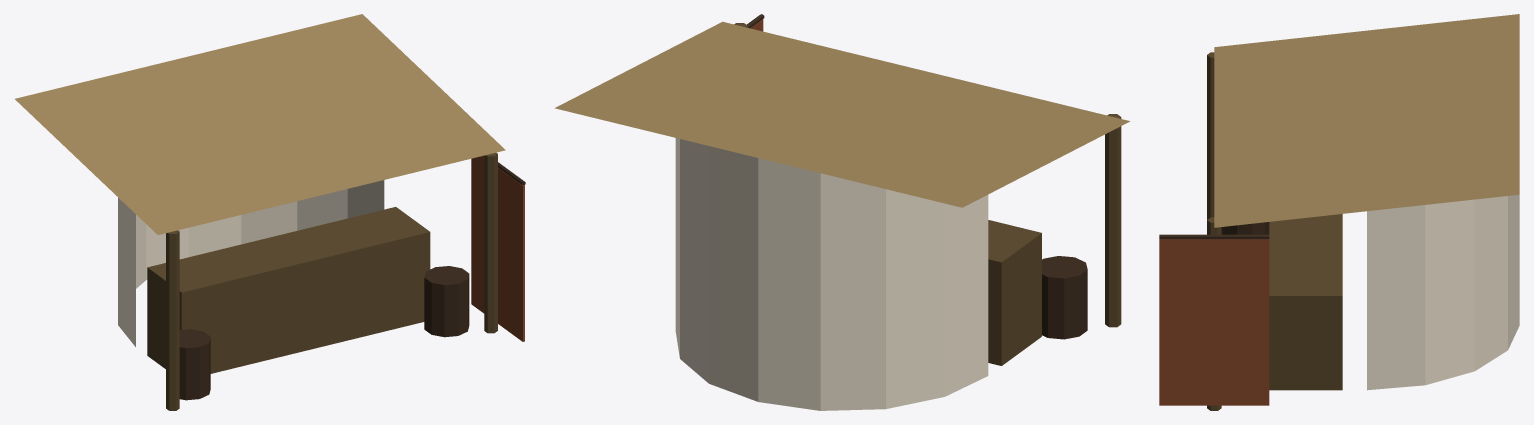
File: Shop_Steppe.fbx
3 renders of one model, left to right at view 1: azimuth 30°, elevation 25°; view 2: azimuth 150°, elevation 25°; view 3: azimuth 270°, elevation 25°, orthographic. The views are drawn at different scales.
Parts seen in each view (by area): view 1: Shop_Steppe_Mesh; view 2: Shop_Steppe_Mesh; view 3: Shop_Steppe_Mesh.
Part boxes in pixels (bbox=[...]): Shop_Steppe_Mesh: bbox=[15, 14, 525, 410]; Shop_Steppe_Mesh: bbox=[555, 14, 1130, 410]; Shop_Steppe_Mesh: bbox=[1159, 14, 1519, 410].
Size of the model in its own units: 3.5 by 2 by 2.95.
